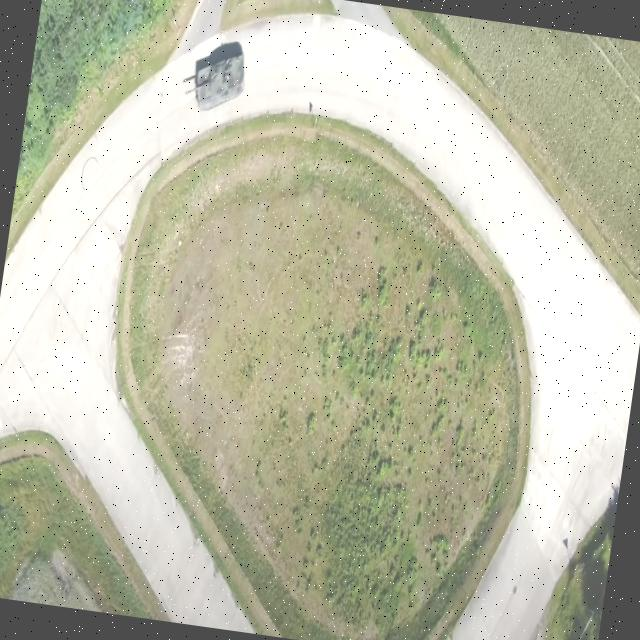MBT: (183, 44, 254, 124)
